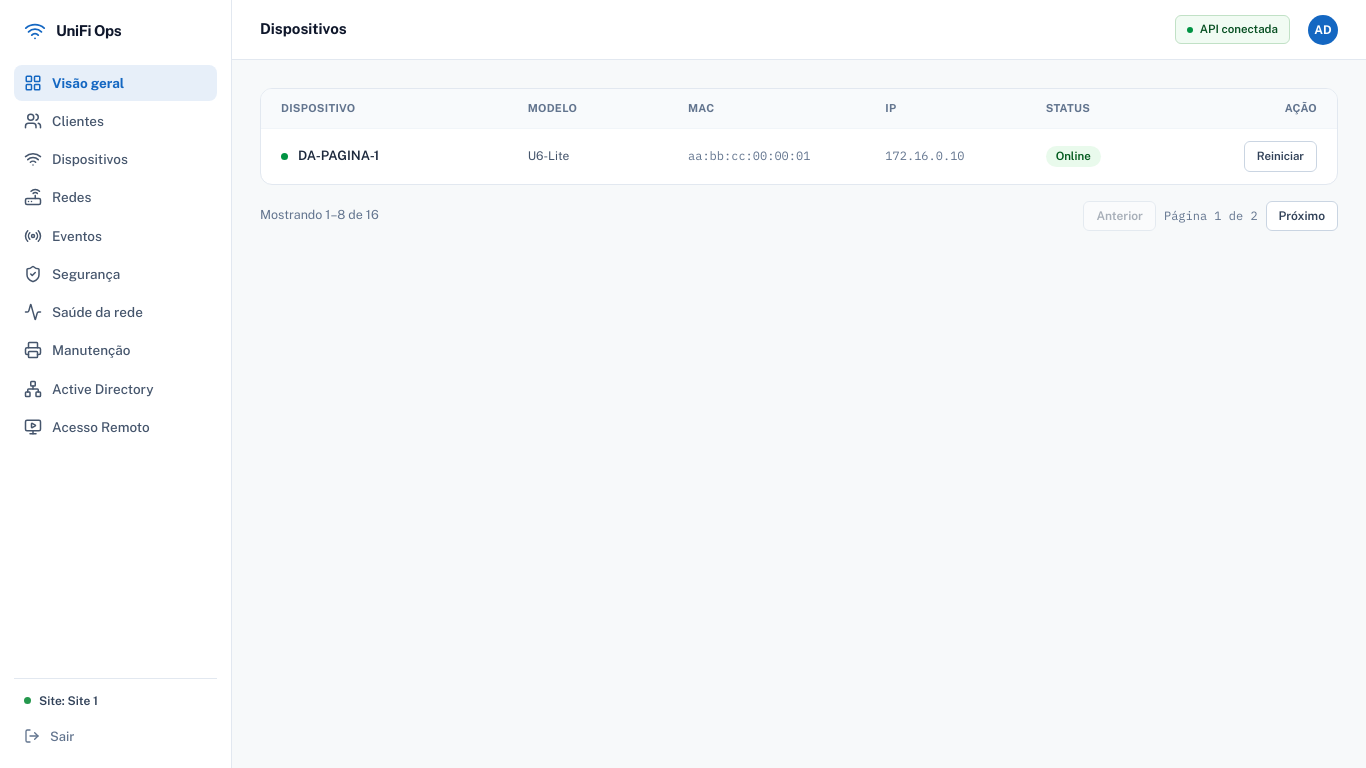
Devices page › discards a stale in-flight poll response when the user changes page while it is pending
The width and height of the screenshot is (1366, 768).
Expected: the text "DA-PAGINA-1" is shown, [298,146,379,166]
Click the button "Próximo".
click(1302, 216)  # box [1266,201,1338,231]
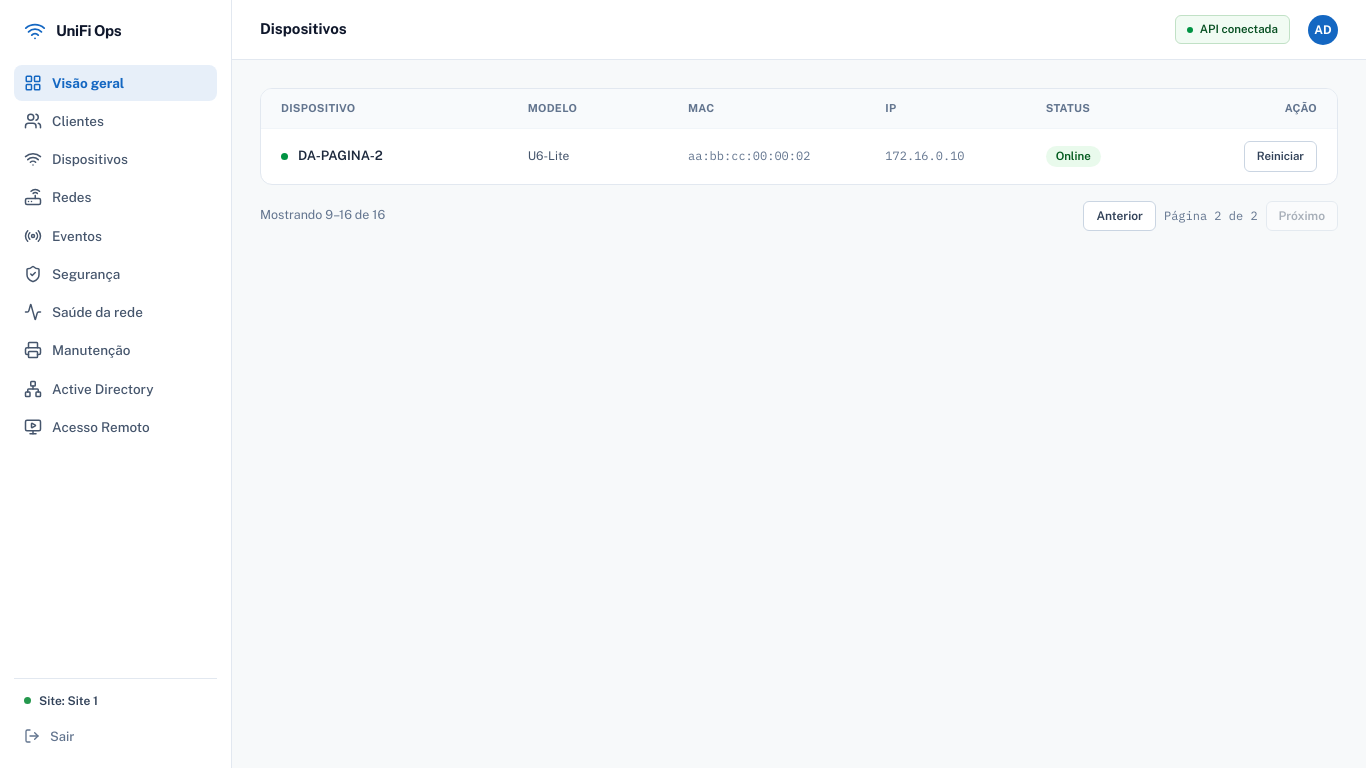
Expected: the text "DA-PAGINA-2" is shown, [298,146,383,166]
Expected: the text "DA-PAGINA-1" is gone
Expected: the text "Página 2 de 2" is shown, [1164,208,1258,224]
